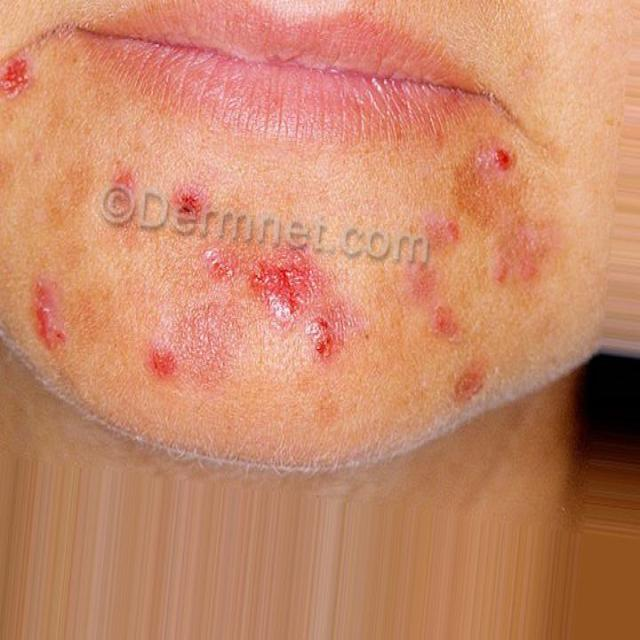Acne: (247, 234, 313, 356), (384, 215, 472, 300), (504, 236, 568, 318), (458, 151, 520, 226), (170, 171, 221, 247), (140, 324, 183, 411), (36, 283, 72, 379), (202, 240, 241, 307), (310, 308, 347, 378), (449, 355, 494, 406), (434, 305, 466, 376), (0, 43, 33, 110), (113, 158, 138, 235), (500, 132, 516, 188)
